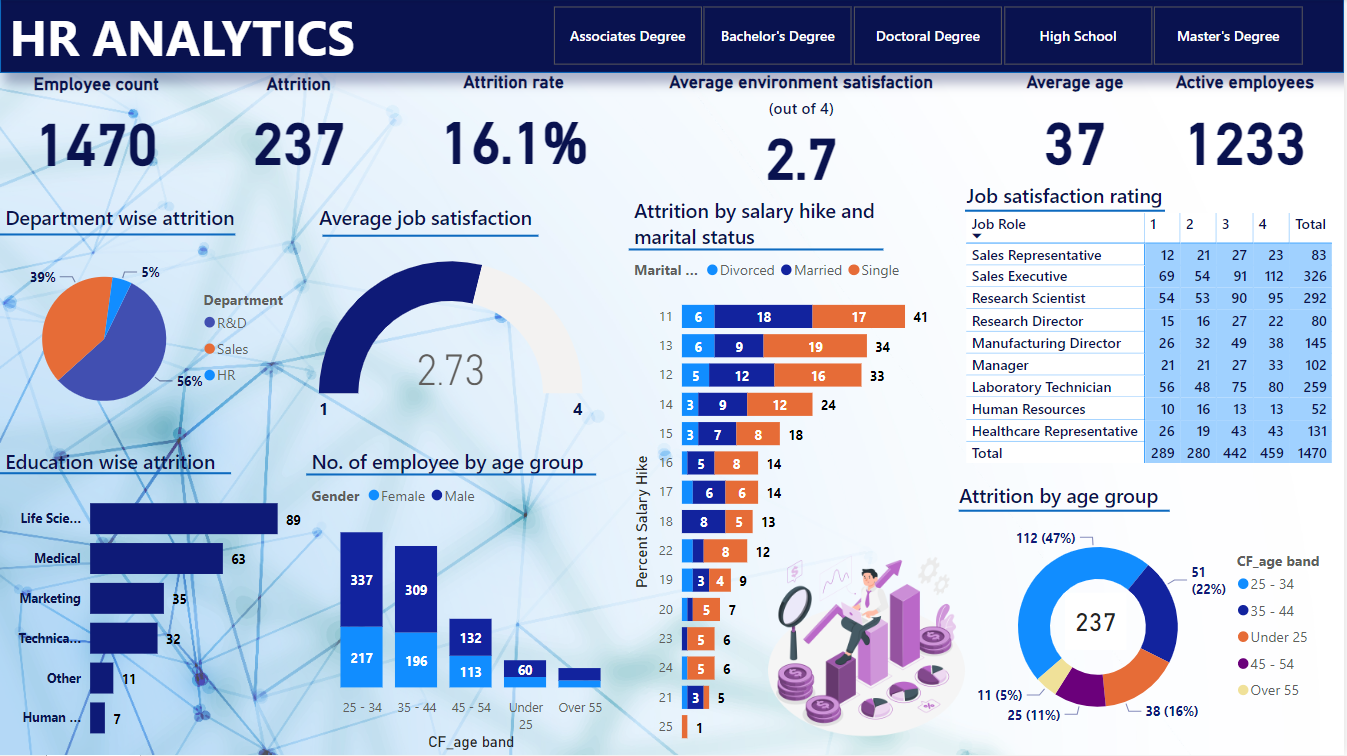

What the dashboard file says about the page in this screenshot:
{"tool":"powerbi","page":{"name":"Page 1","canvas":[1280,720],"ordinal":0},"visuals":[{"type":"card","title":"Employee count","fields":{"Values":["Sum(HR data.Employee Count)"]},"box":[0,70.2,183.3,104.7],"z":0},{"type":"shape","box":[0,0,1280.5,70.2],"z":1000},{"type":"card","title":"Attrition","fields":{"Values":["Sum(HR data.Attrition count)"]},"box":[183.3,70.2,202.3,103.5],"z":2000},{"type":"card","title":"Active employees","fields":{"Values":["HR data.Active employees"]},"box":[1090.1,69,190.4,104.7],"z":3000},{"type":"card","title":"Attrition rate","fields":{"Values":["HR data.Attrition rate"]},"box":[390.3,69,197.6,103.5],"z":4000},{"type":"card","title":"Average age","fields":{"Values":["Avg(HR data.Age)"]},"box":[937.8,69,171.4,104.7],"z":5000},{"type":"image","box":[693.8,520.1,242.8,199.9],"z":6000},{"type":"pieChart","title":"Department wise attrition","fields":{"Category":["HR data.Department"],"Y":["Sum(HR data.Attrition count)"]},"box":[0,195.2,291.6,232.1],"z":7000},{"type":"shape","box":[0,217.8,223.7,13.1],"z":8000},{"type":"columnChart","title":"No. of employee by age group","fields":{"Category":["HR data.CF_age band"],"Y":["Sum(HR data.Employee Count)"],"Series":["HR data.Gender"]},"box":[291.6,427.2,307,292.8],"z":9000},{"type":"shape","box":[307,219,205.9,13.1],"z":10000},{"type":"pivotTable","title":"Job satisfaction rating","fields":{"Values":["Sum(HR data.Employee Count)"],"Columns":["HR data.Job Satisfaction"],"Rows":["HR data.Job Role"]},"box":[915.2,173.8,365.4,273.7],"z":11000},{"type":"shape","box":[918.7,195.2,190.4,13.1],"z":12000},{"type":"shape","box":[0,445.1,220.2,13.1],"z":13000},{"type":"barChart","title":"Education wise attrition","fields":{"Y":["Sum(HR data.Attrition count)"],"Category":["HR data.Education Field"]},"box":[0,427.2,291.6,292.8],"z":14000},{"type":"gauge","title":"Average job satisfaction","fields":{"Y":["Avg(HR data.Job Satisfaction)"],"MinValue":["Min(HR data.Job Satisfaction)"],"MaxValue":["Max(HR data.Job Satisfaction)"]},"box":[298.7,195.2,260.6,241.6],"z":15000},{"type":"shape","box":[291.6,446.3,276.1,13.1],"z":16000},{"type":"barChart","title":"Attrition by salary hike and marital status","fields":{"Category":["HR data.Percent Salary Hike"],"Y":["Sum(HR data.Attrition count)"],"Series":["HR data.Marital Status"]},"box":[598.6,188,296.3,532],"z":17000},{"type":"shape","box":[598.6,232.1,242.8,13.1],"z":18000},{"type":"donutChart","title":"Attrition by age group","fields":{"Category":["HR data.CF_age band"],"Y":["Sum(HR data.Attrition count)"]},"box":[908,459.4,372.5,252.3],"z":19000},{"type":"shape","box":[912.8,480.8,201.1,13.1],"z":20000},{"type":"slicer","fields":{"Values":["HR data.Education"]},"box":[501,0,762.8,69],"z":22000},{"type":"card","title":"Average environment satisfaction (out of 4)","fields":{"Values":["Avg(HR data.Environment Satisfaction)"]},"box":[587.9,69,349.9,104.7],"z":23000},{"type":"card","fields":{"Values":["Sum(HR data.Attrition count)"]},"box":[1014,565.3,58.3,54.7],"z":23001}]}

Visuals, with their boxes in screenshot pixels (x1, y1, x2, y2), scaled from the page's 1280x720 canvas onto the 1347x756 screenshot:
"Employee count" card: 0 74 193 184
shape: 0 0 1346 74
"Attrition" card: 193 74 406 182
"Active employees" card: 1147 72 1346 182
"Attrition rate" card: 411 72 619 181
"Average age" card: 987 72 1167 182
image: 730 546 986 755
"Department wise attrition" pieChart: 0 205 307 449
shape: 0 229 235 242
"No. of employee by age group" columnChart: 307 449 630 755
shape: 323 230 540 244
"Job satisfaction rating" pivotTable: 963 182 1346 470
shape: 967 205 1167 219
shape: 0 467 232 481
"Education wise attrition" barChart: 0 449 307 755
"Average job satisfaction" gauge: 314 205 589 459
shape: 307 469 597 482
"Attrition by salary hike and marital status" barChart: 630 197 942 755
shape: 630 244 885 257
"Attrition by age group" donutChart: 956 482 1346 747
shape: 961 505 1172 519
slicer - HR data.Education: 527 0 1330 72
"Average environment satisfaction (out of 4)" card: 619 72 987 182
card - Sum(HR data.Attrition count): 1067 594 1128 651
